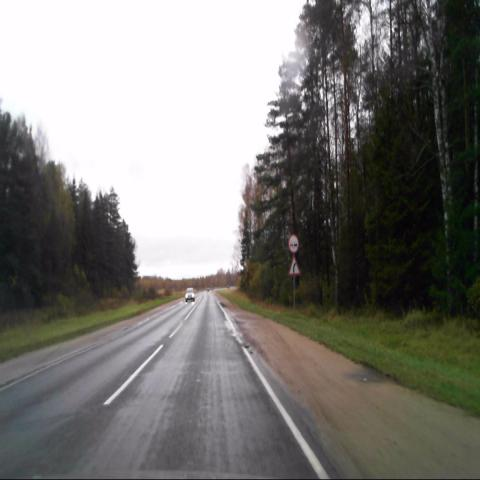1_11: (288, 254, 300, 277)
